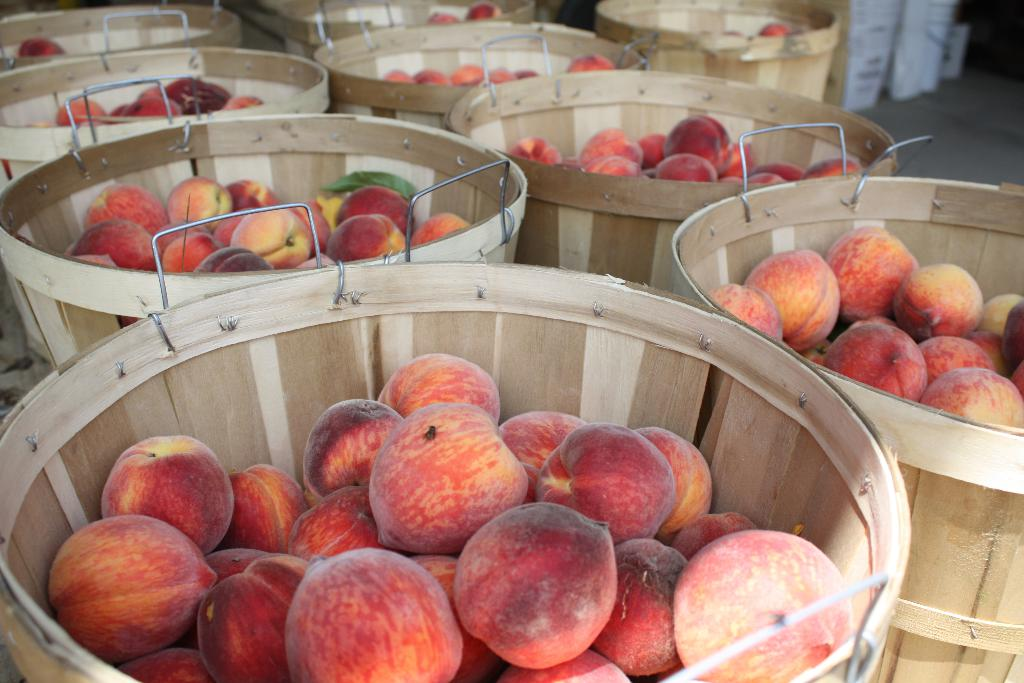Apple: (45, 349, 849, 682), (704, 225, 1023, 427), (64, 178, 474, 270), (510, 111, 857, 177), (48, 520, 198, 652), (19, 77, 268, 124), (387, 52, 616, 81), (16, 36, 65, 55), (466, 2, 504, 18), (755, 21, 786, 36), (430, 11, 458, 22)
